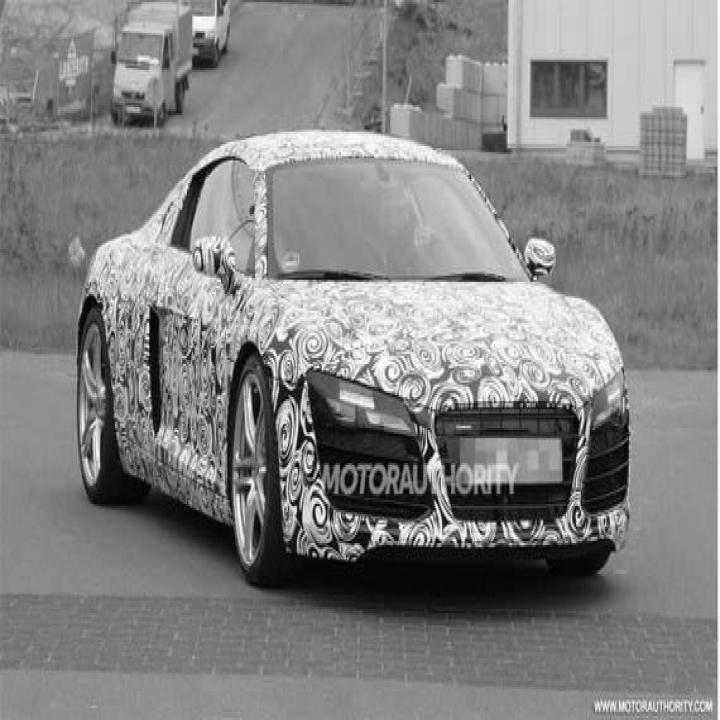car: (74, 126, 632, 586)
plat: (459, 438, 564, 484)
